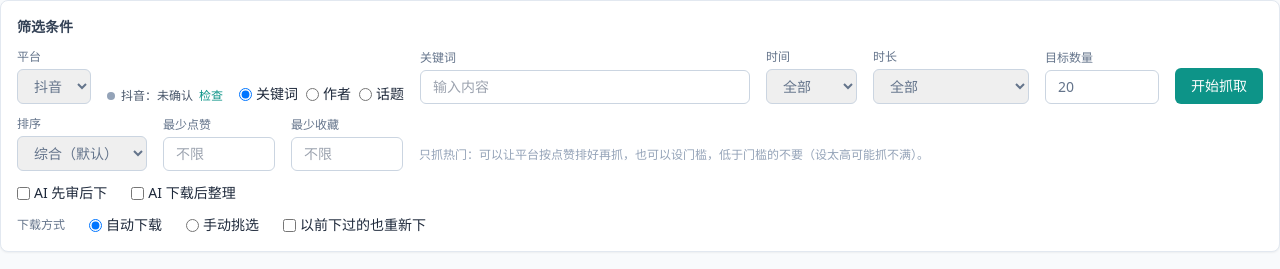
N01 排序 › 快手网页搜索没有排序：不显示「排序」；抓作者主页时也不显示
Click the radio button labelled "作者".
click(313, 94)  # box [306,88,319,100]
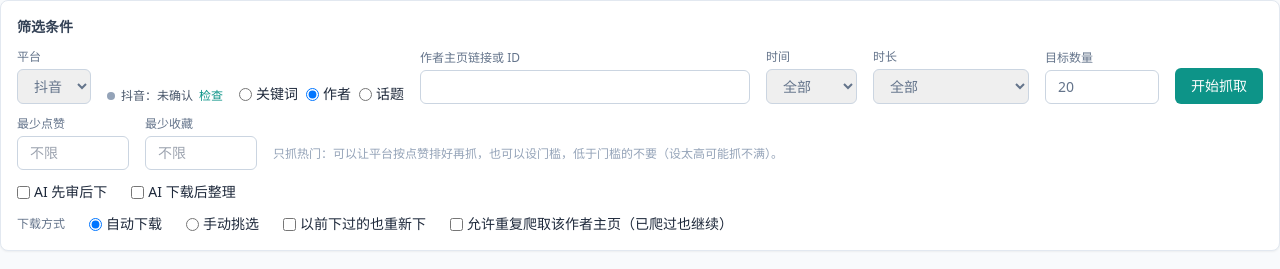
Result: the label labelled "排序" is gone
Click the radio button labelled "关键词".
click(246, 94)  # box [239,88,252,100]
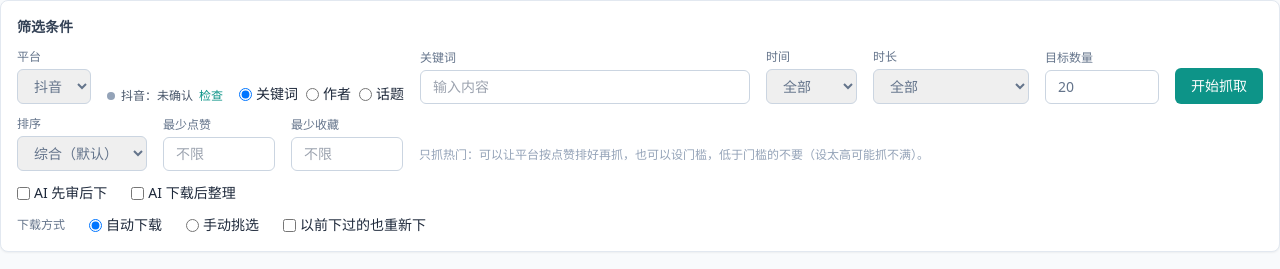
Select "快手" in the dropdown labelled "平台" at (54, 86), box [17,69,91,104]
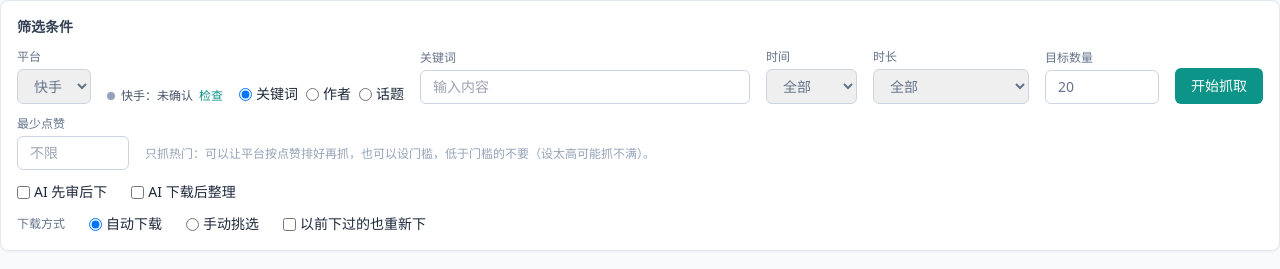
Result: the label labelled "排序" is gone
